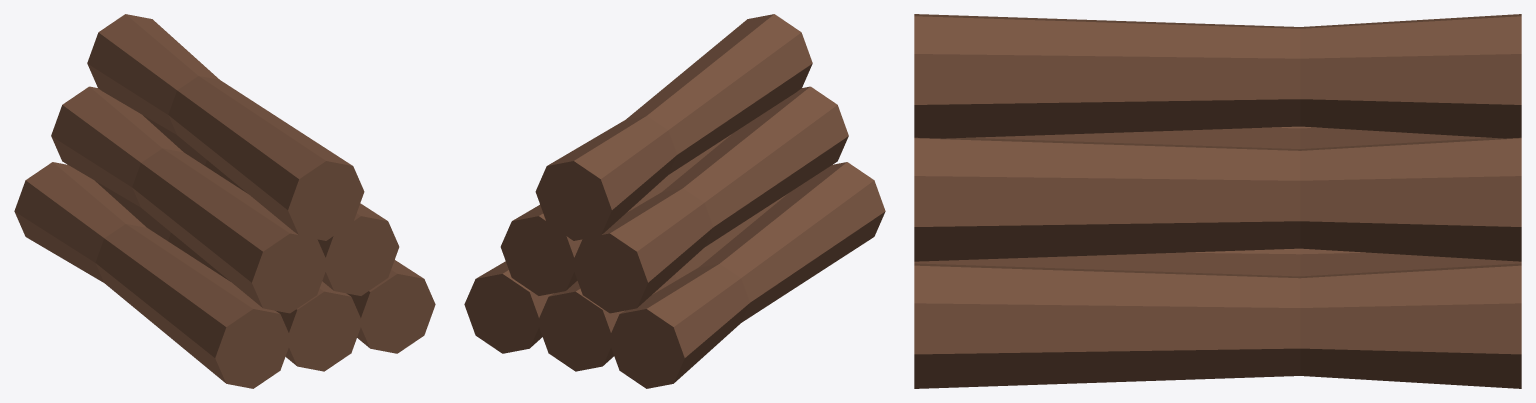
Rendered from wood.fbx.
3 views of the same model, side by side, from view 1: azimuth 30°, elevation 25°; view 2: azimuth 150°, elevation 25°; view 3: azimuth 270°, elevation 25° (orthographic). The views are drawn at different scales.
Visible parts, largest first — view 1: Wood.011; view 2: Wood.011; view 3: Wood.011.
Boxes of the visible parts, x1,y1,x2,y2 form: Wood.011: (14, 14, 435, 388); Wood.011: (464, 14, 885, 388); Wood.011: (914, 14, 1521, 388).
Size of the model in its own units: 127 by 116 by 200.
